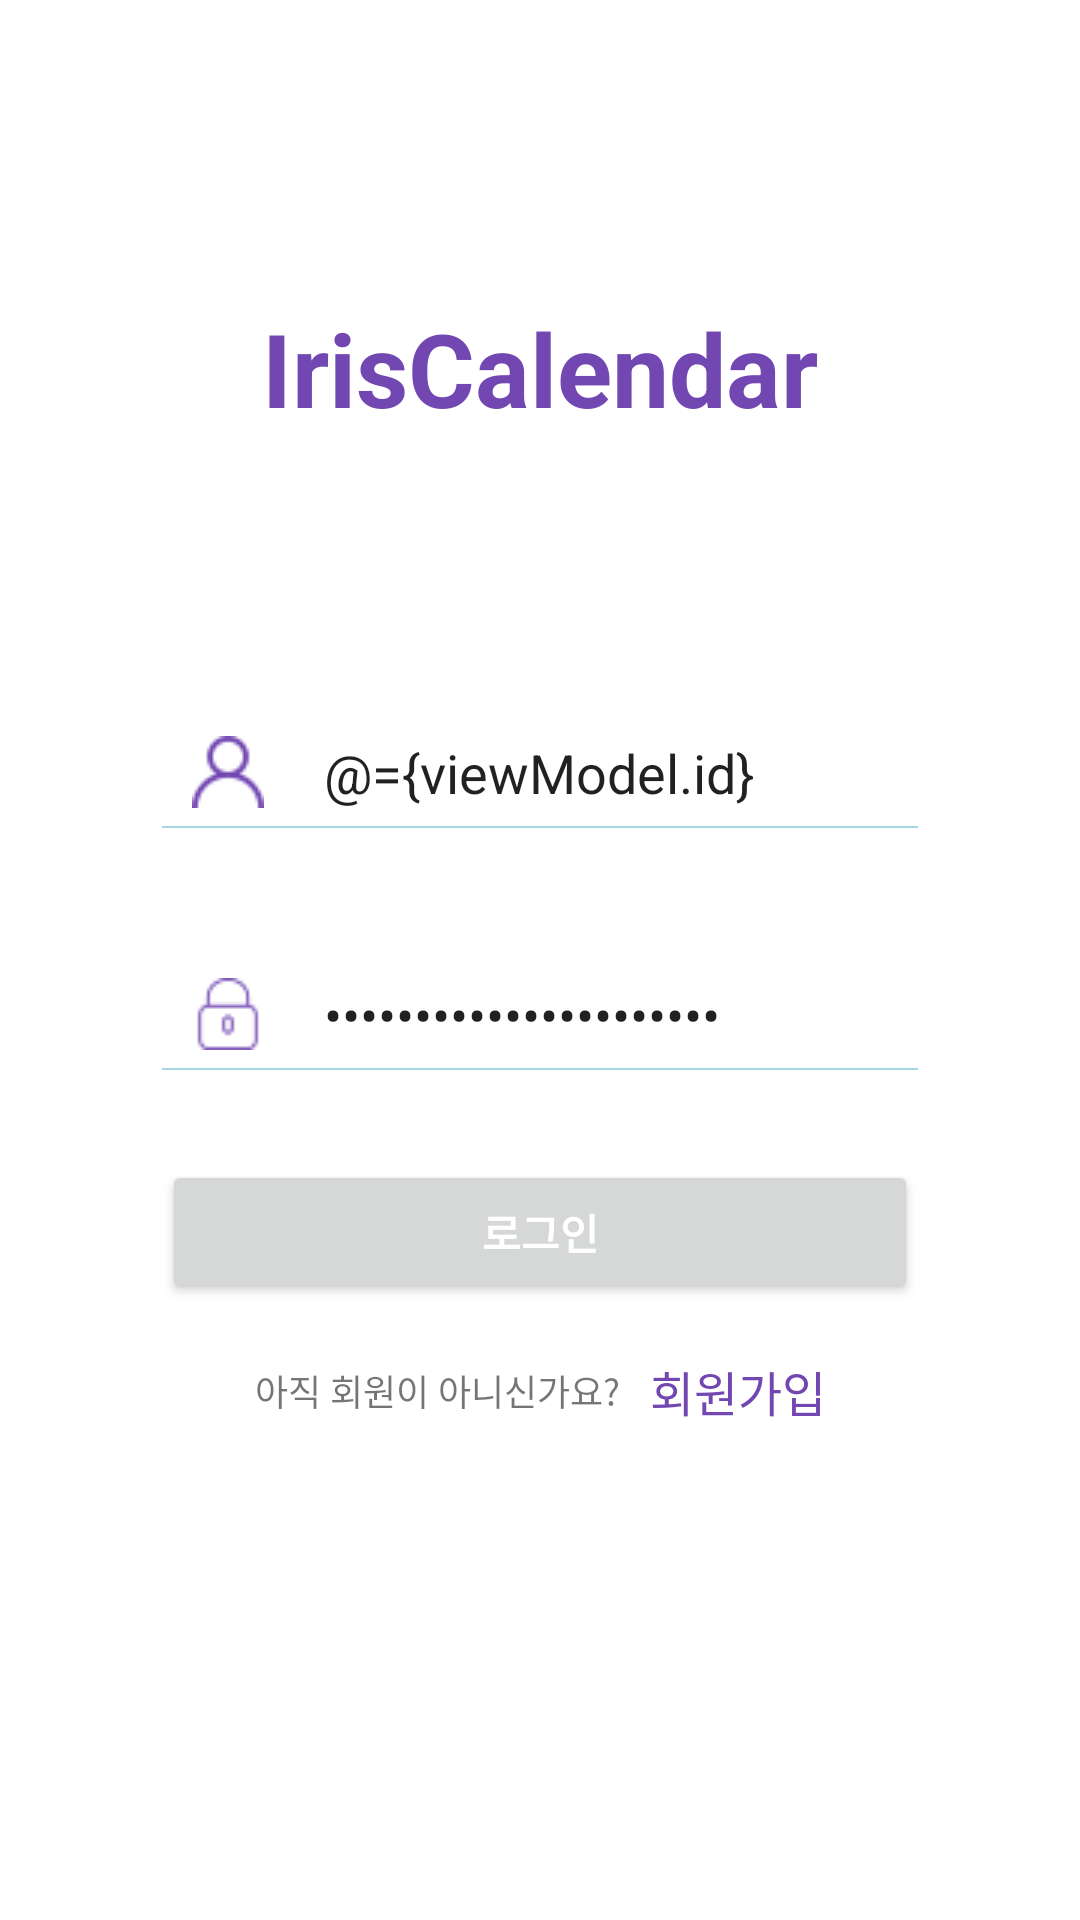

Locate icon controls on the screen. Image size 1080×1920, boxes as (x1, y1, x2, y2).
lock: (197, 978, 259, 1050)
person: (192, 736, 264, 808)
